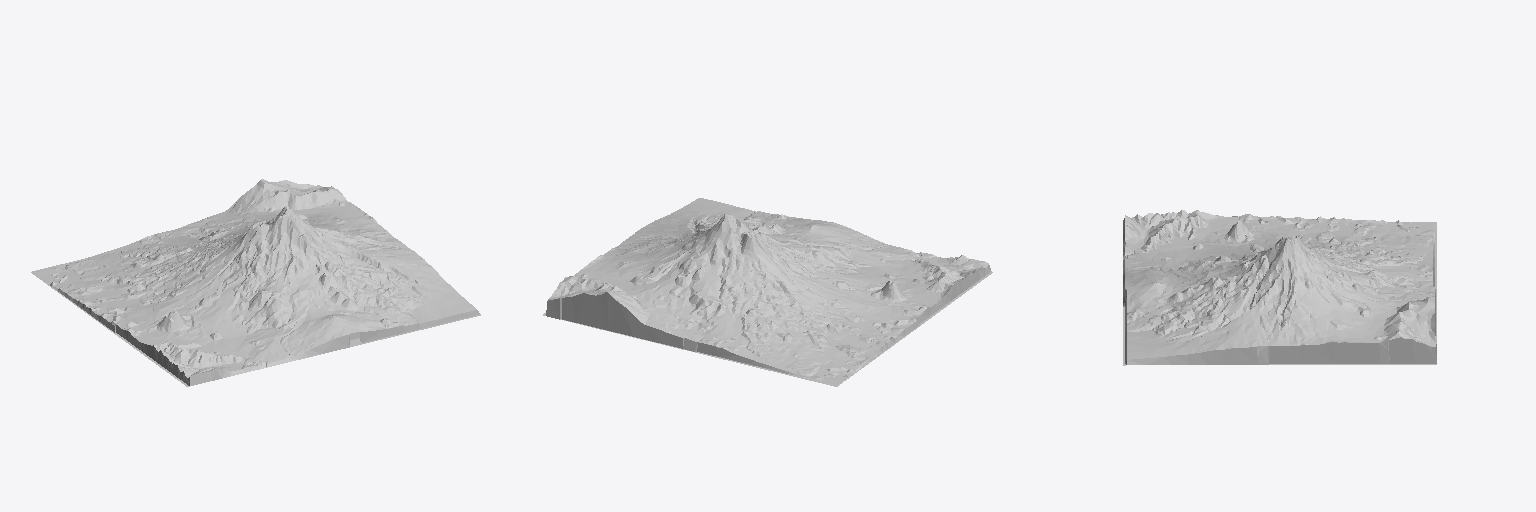
The model's file is terrain3.obj.
The picture shows the model from 3 angles: view 1: azimuth 30°, elevation 25°; view 2: azimuth 150°, elevation 25°; view 3: azimuth 270°, elevation 25°; orthographic projection.
Parts seen in each view (by area): view 1: vue_ready_shasta; view 2: vue_ready_shasta; view 3: vue_ready_shasta.
Boxes of the visible parts, x1,y1,x2,y2 form: vue_ready_shasta: [31, 179, 480, 386]; vue_ready_shasta: [543, 198, 992, 386]; vue_ready_shasta: [1123, 210, 1436, 365].
Bounding box in the file's own units: 257 × 62.71 × 238.